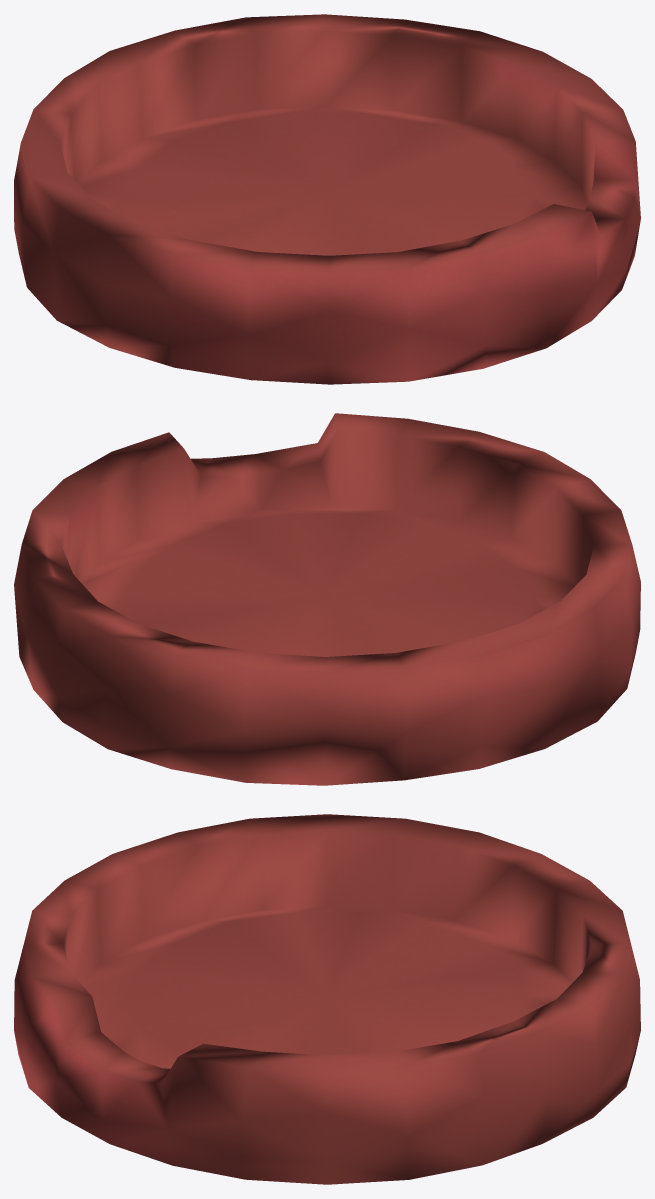
File: cat_bed.fbx
3 renders of one model, top to bottom at view 1: azimuth 30°, elevation 25°; view 2: azimuth 150°, elevation 25°; view 3: azimuth 270°, elevation 25°, orthographic.
Visible parts, largest first — view 1: Mesh_0; view 2: Mesh_0; view 3: Mesh_0.
Part boxes in pixels (x1,y1,x2,y2): Mesh_0: (14,14,640,384); Mesh_0: (14,413,640,785); Mesh_0: (14,814,640,1184).
Bounding box in the file's own units: 95.7 × 18.75 × 95.75.
Materials: 1 (1 with a texture image).
